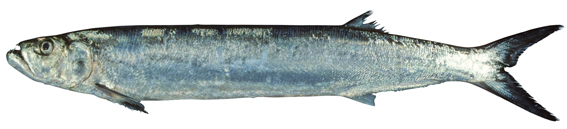fish: (6, 9, 564, 121)
